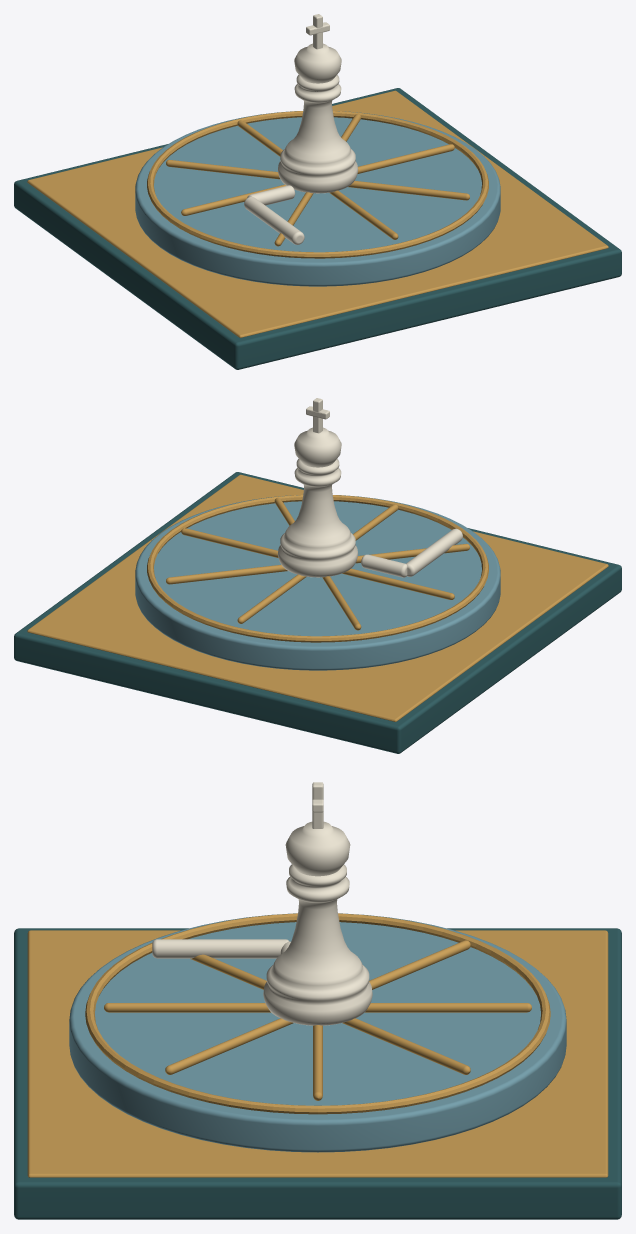
File: helpers.cpp.glb
The picture shows the model from 3 angles, top to bottom: view 1: azimuth 30°, elevation 25°; view 2: azimuth 150°, elevation 25°; view 3: azimuth 270°, elevation 25°; orthographic projection. The views are drawn at different scales.
Visible parts, largest first — view 1: Cylinder, Cube.001, Cube, K.002, Torus.008, Cylinder.009, Cylinder.008, Cylinder.004, Cylinder.001, Cylinder.005, Cylinder.007, Cylinder.010; view 2: Cylinder, Cube.001, Cube, K.002, Torus.008, Cylinder.009, Cylinder.002, Cylinder.005, Cylinder.001, Cylinder.010, Cylinder.003, Cylinder.006; view 3: Cylinder, Cube.001, Cube, K.002, Torus.008, Cylinder.009, Cylinder.003, Cylinder.007, Cylinder.002, Cylinder.008, Cylinder.004, Cylinder.006 (+1 smaller).
Boxes of the visible parts, x1,y1,x2,y2 form: Cylinder: (135, 111, 500, 286); Cube.001: (27, 90, 608, 337); Cube: (14, 88, 621, 369); K.002: (277, 14, 358, 193); Torus.008: (147, 111, 488, 258); Cylinder.009: (244, 196, 304, 244); Cylinder.008: (348, 181, 469, 200); Cylinder.004: (166, 159, 279, 179); Cylinder.001: (357, 144, 454, 173); Cylinder.005: (181, 184, 285, 215); Cylinder.007: (329, 190, 398, 239); Cylinder.010: (247, 185, 295, 205); Cylinder: (135, 495, 500, 670); Cube.001: (27, 474, 608, 721); Cube: (14, 472, 621, 753); K.002: (277, 398, 358, 577); Torus.008: (147, 495, 488, 642); Cylinder.009: (406, 528, 462, 576); Cylinder.002: (166, 565, 287, 584); Cylinder.005: (342, 568, 454, 599); Cylinder.001: (181, 528, 278, 557); Cylinder.010: (361, 554, 407, 577); Cylinder.003: (237, 574, 306, 623); Cylinder.006: (356, 543, 469, 563); Cylinder: (69, 913, 566, 1152); Cube.001: (27, 930, 608, 1177); Cube: (14, 928, 621, 1219); K.002: (263, 782, 372, 1025); Torus.008: (85, 913, 550, 1114); Cylinder.009: (152, 939, 289, 958); Cylinder.003: (365, 1003, 531, 1012); Cylinder.007: (104, 1003, 270, 1012); Cylinder.002: (342, 1018, 470, 1074); Cylinder.008: (165, 1018, 293, 1074); Cylinder.004: (369, 940, 470, 989); Cylinder.006: (190, 954, 266, 989).
Size of the model in its own units: 4.4 by 2.47 by 4.4.
